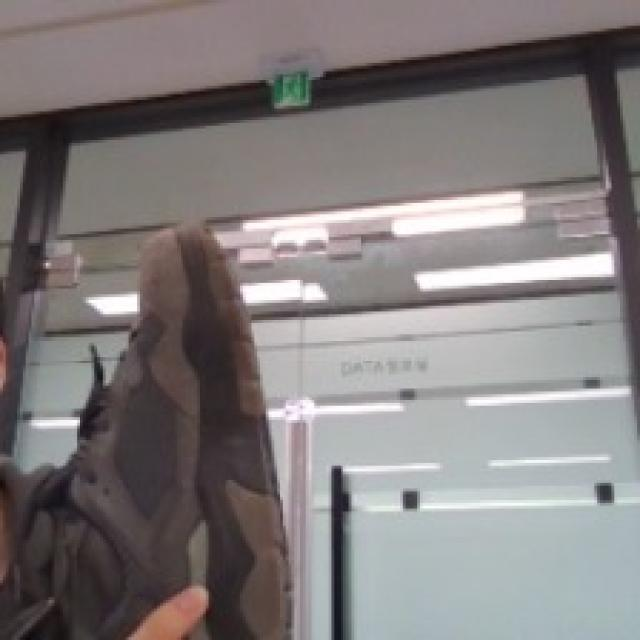shoe: (56, 206, 309, 640)
